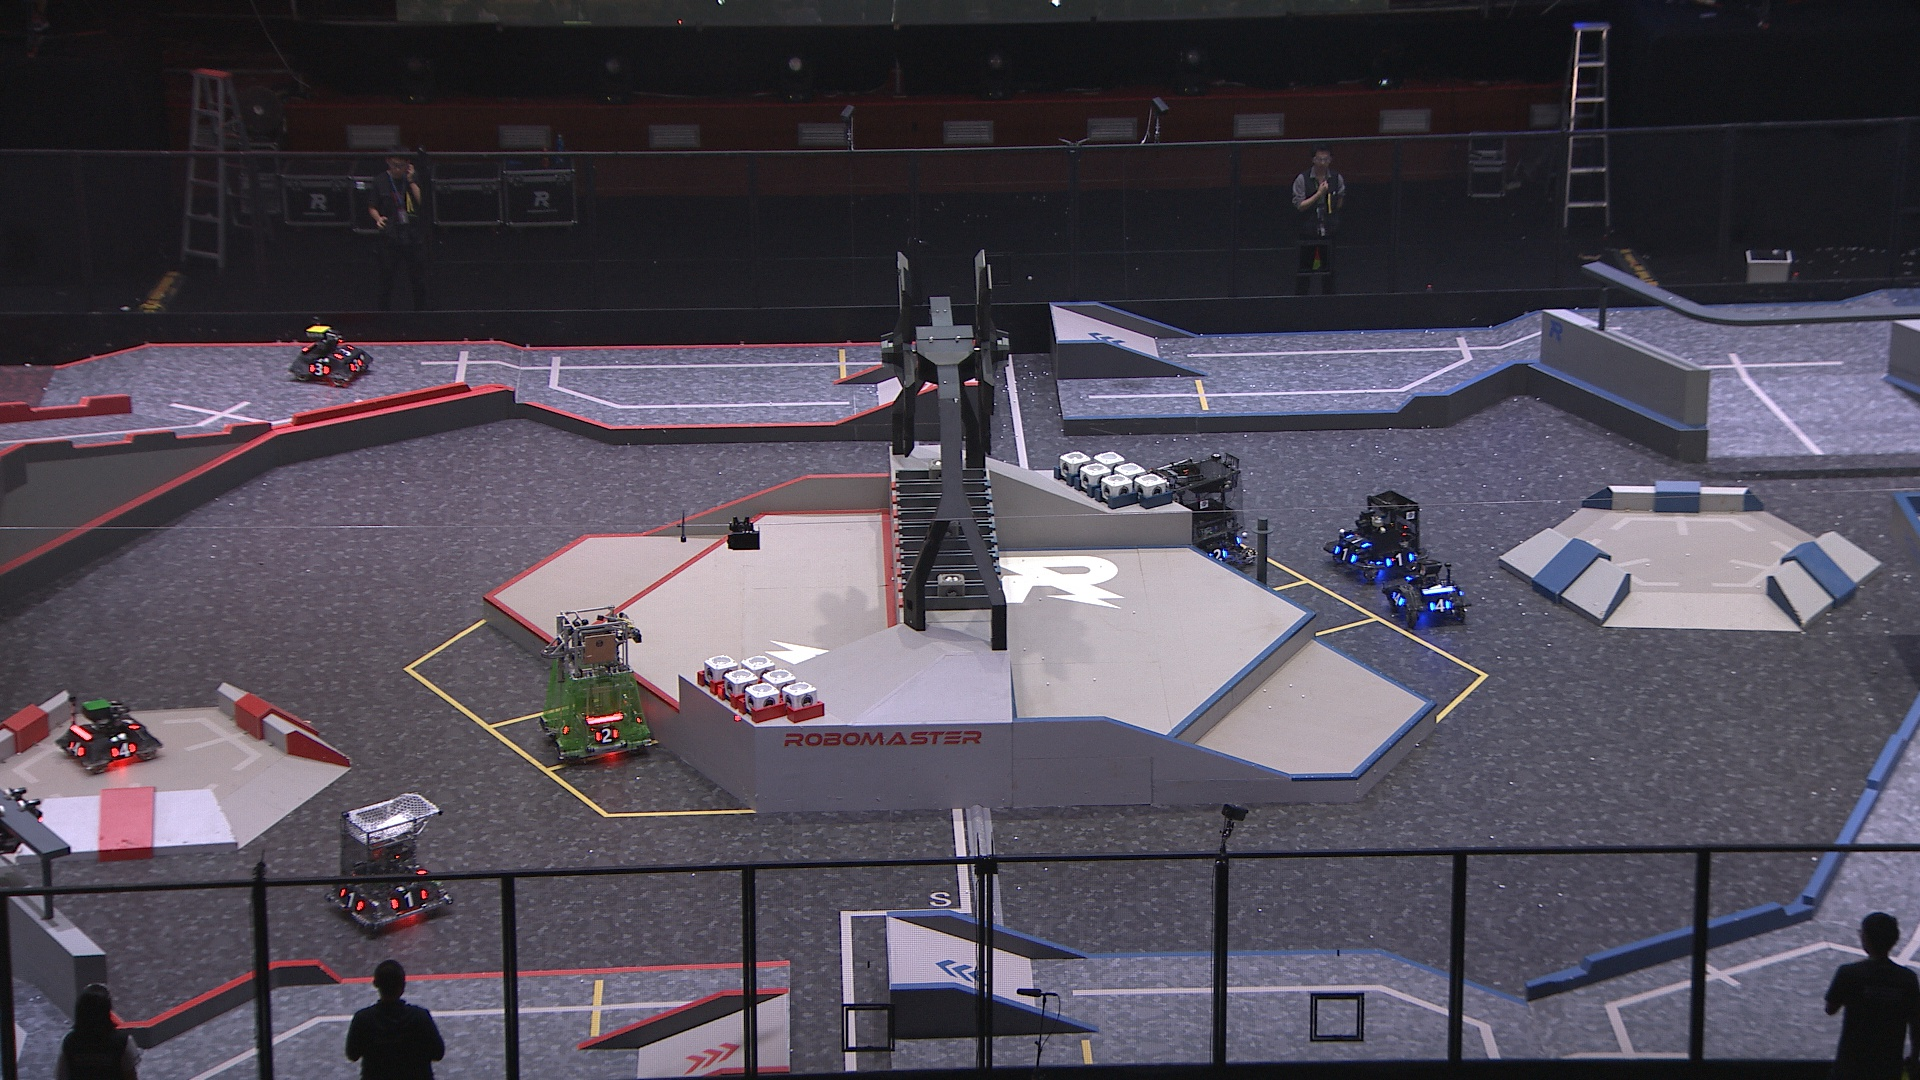armor: (386, 889, 427, 911), (338, 889, 367, 913), (107, 742, 138, 760), (1385, 553, 1414, 571), (1333, 545, 1357, 564), (1342, 533, 1371, 549), (593, 727, 618, 744), (65, 740, 87, 757), (1429, 597, 1452, 613), (309, 363, 332, 377), (406, 862, 427, 878), (1207, 547, 1229, 562), (555, 719, 571, 738), (120, 716, 141, 731), (332, 344, 353, 357), (1391, 589, 1404, 609), (349, 357, 363, 372)
car: (539, 609, 659, 769), (330, 796, 456, 940), (1145, 455, 1258, 572), (1321, 488, 1433, 580), (57, 694, 162, 774), (1385, 551, 1468, 626), (291, 322, 371, 390)
